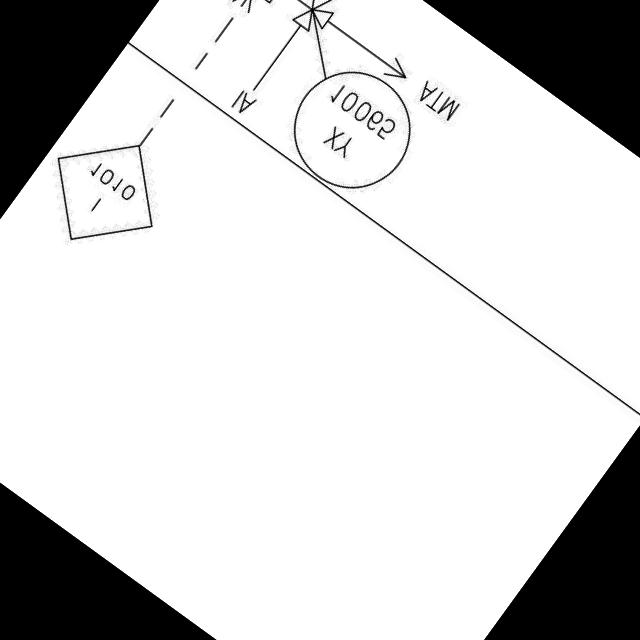3W: (284, 0, 344, 43)
SV: (230, 0, 337, 35)
